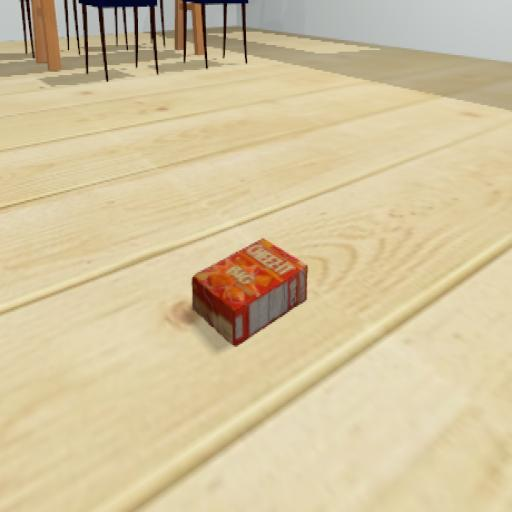BOX_R: (170, 177, 338, 380)
